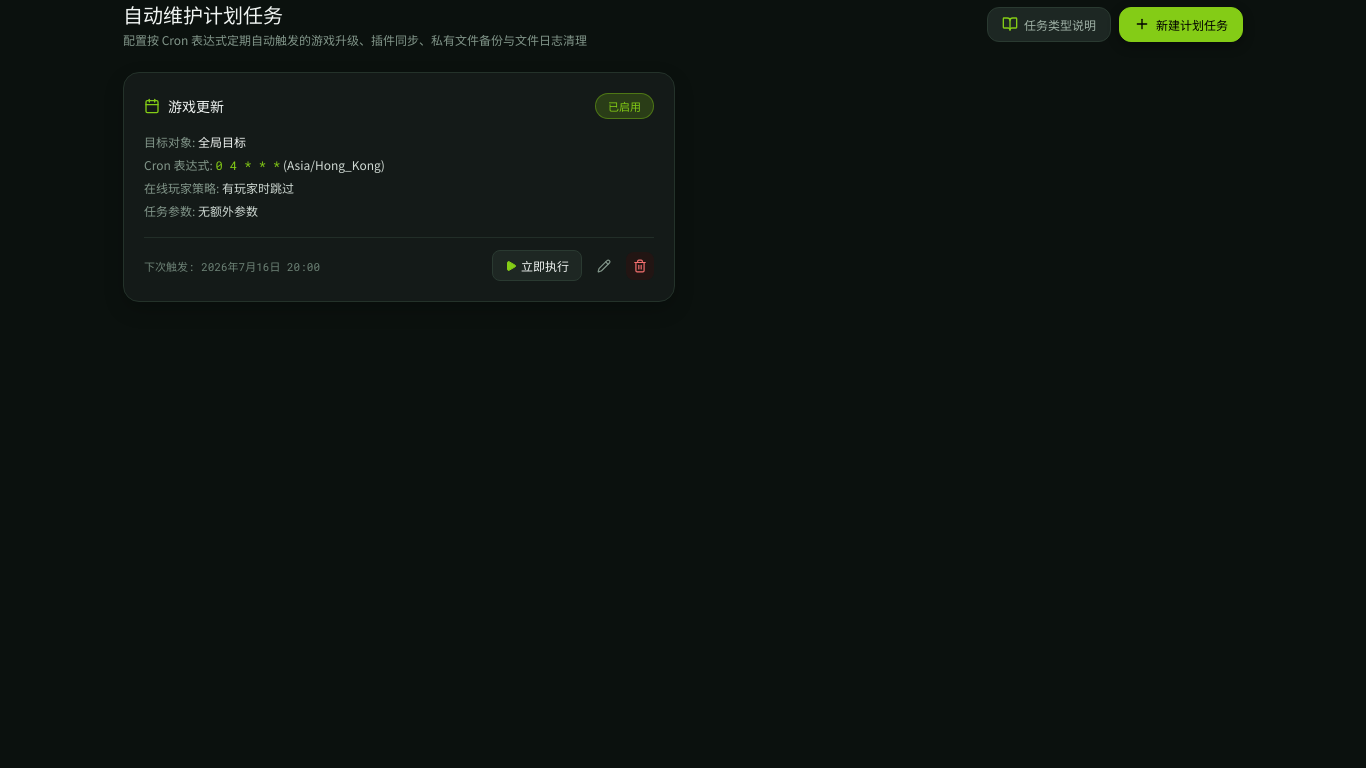
SchedulesPage › edits only Cron, player policy, and enabled state while preserving identity
Click the button named "编辑 游戏更新" at (604, 266), box [590,252,618,280]
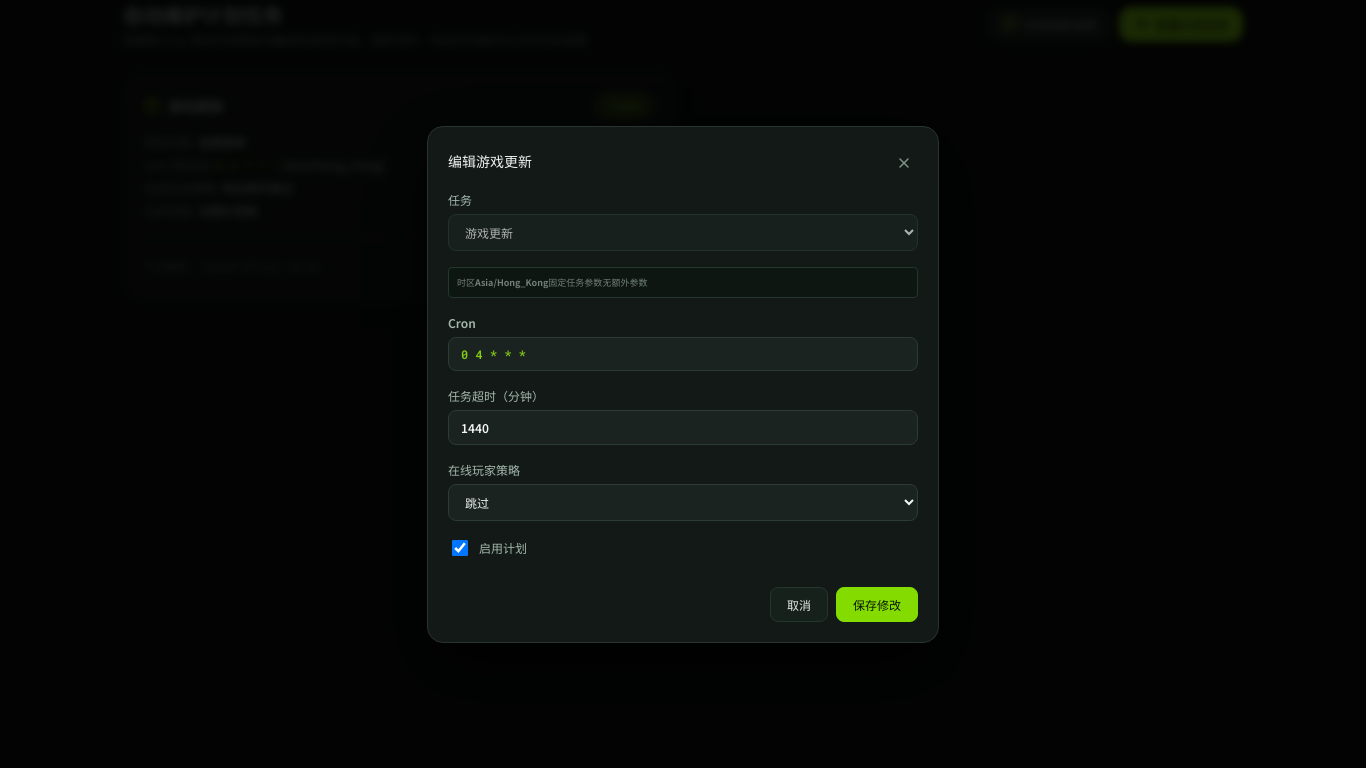
Expected: the dropdown labelled "任务" is disabled, [448,214,918,250]
Expected: the text named "任务时区" reads "Asia/Hong_Kong", [475,276,548,288]
Replace the text in the field labelled "Cron" with "30 5 * * *" at (683, 354), box [448,336,918,370]
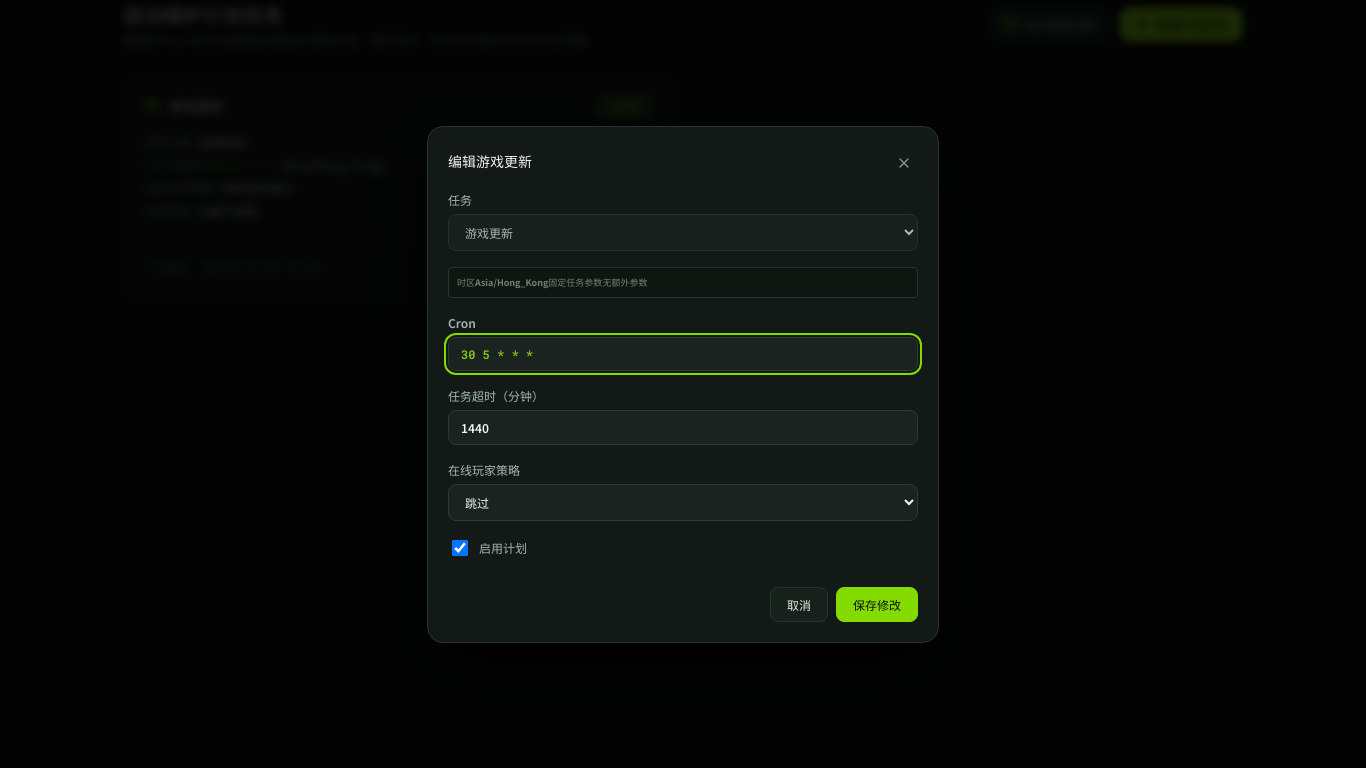
Replace the text in the number field labelled "任务超时（分钟）" with "90" at (683, 427), box [448,410,918,444]
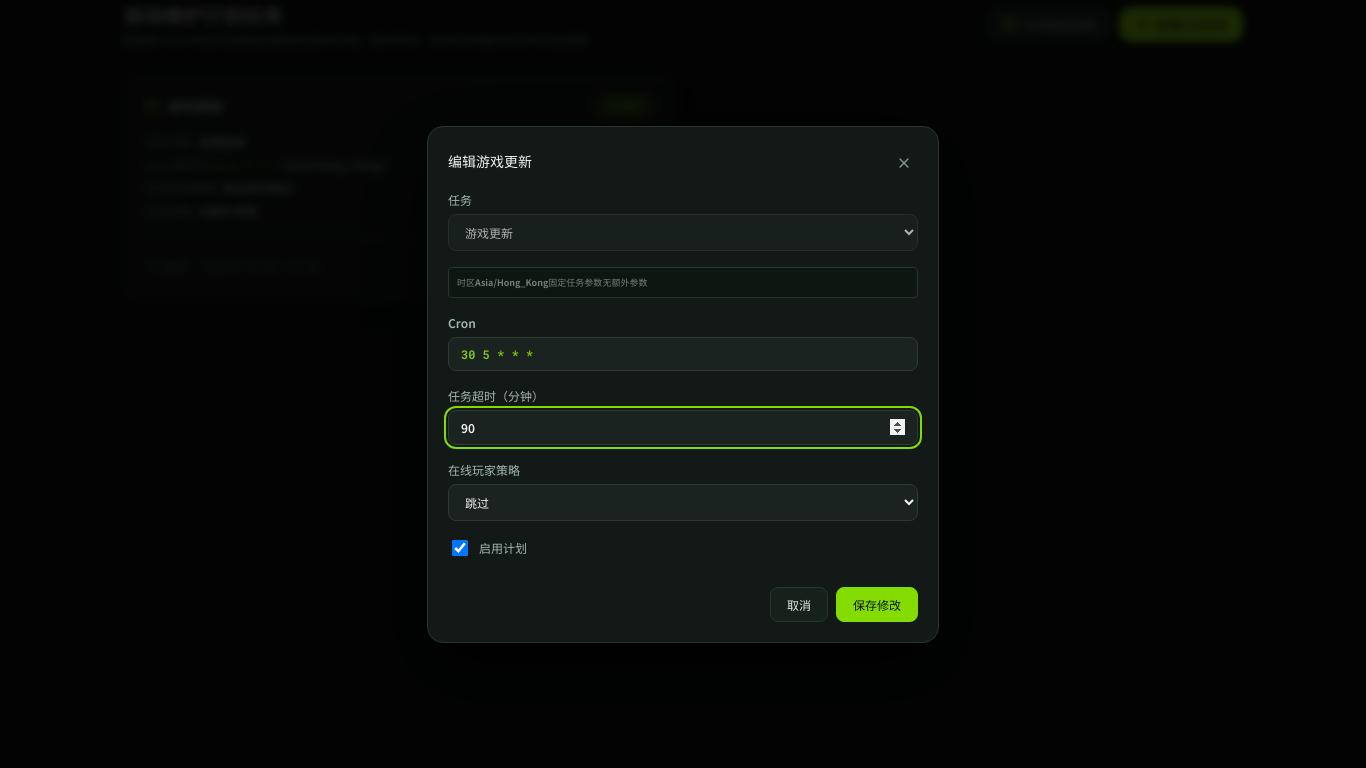
Select "等待" in the dropdown labelled "在线玩家策略" at (683, 502), box [448,484,918,520]
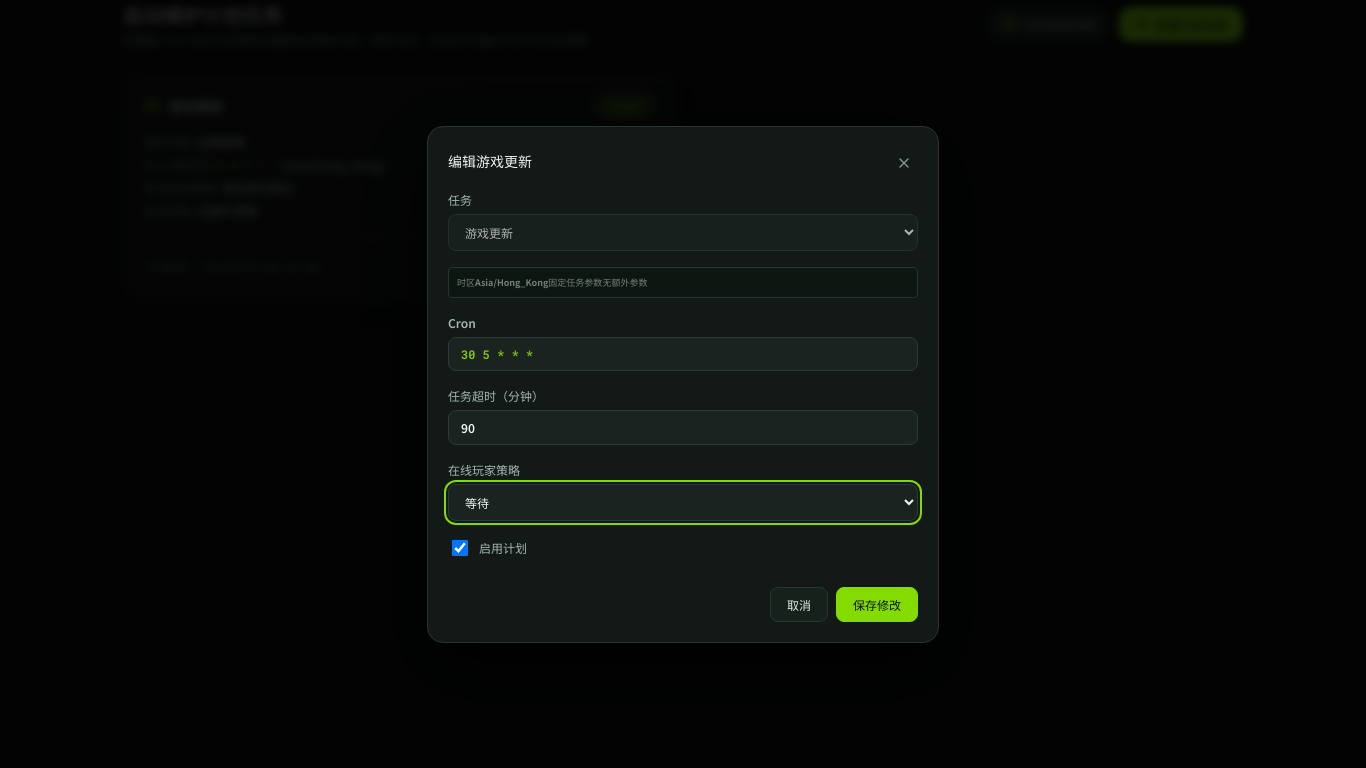
Click the checkbox labelled "启用计划" at (460, 548), box [452,540,468,556]
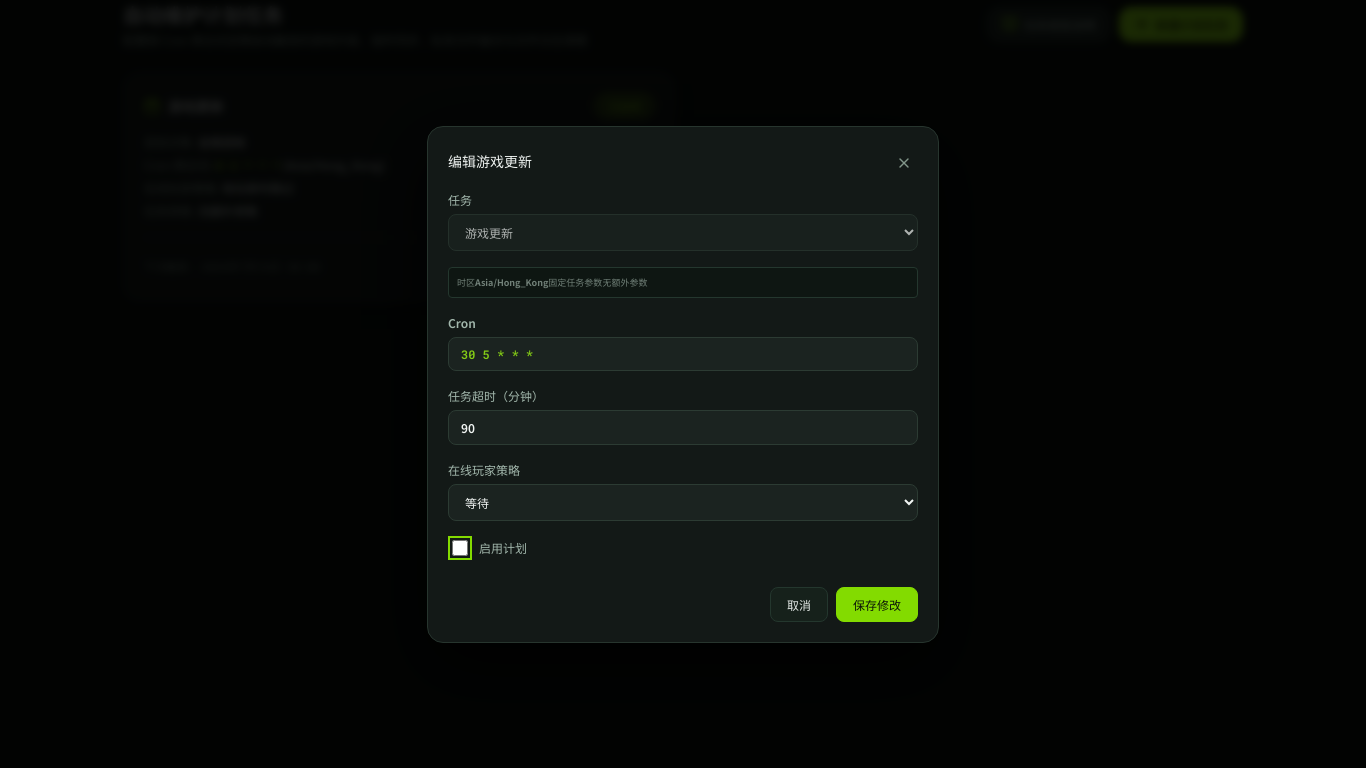
Click the button "保存修改" at (877, 604), box [836,586,918,622]
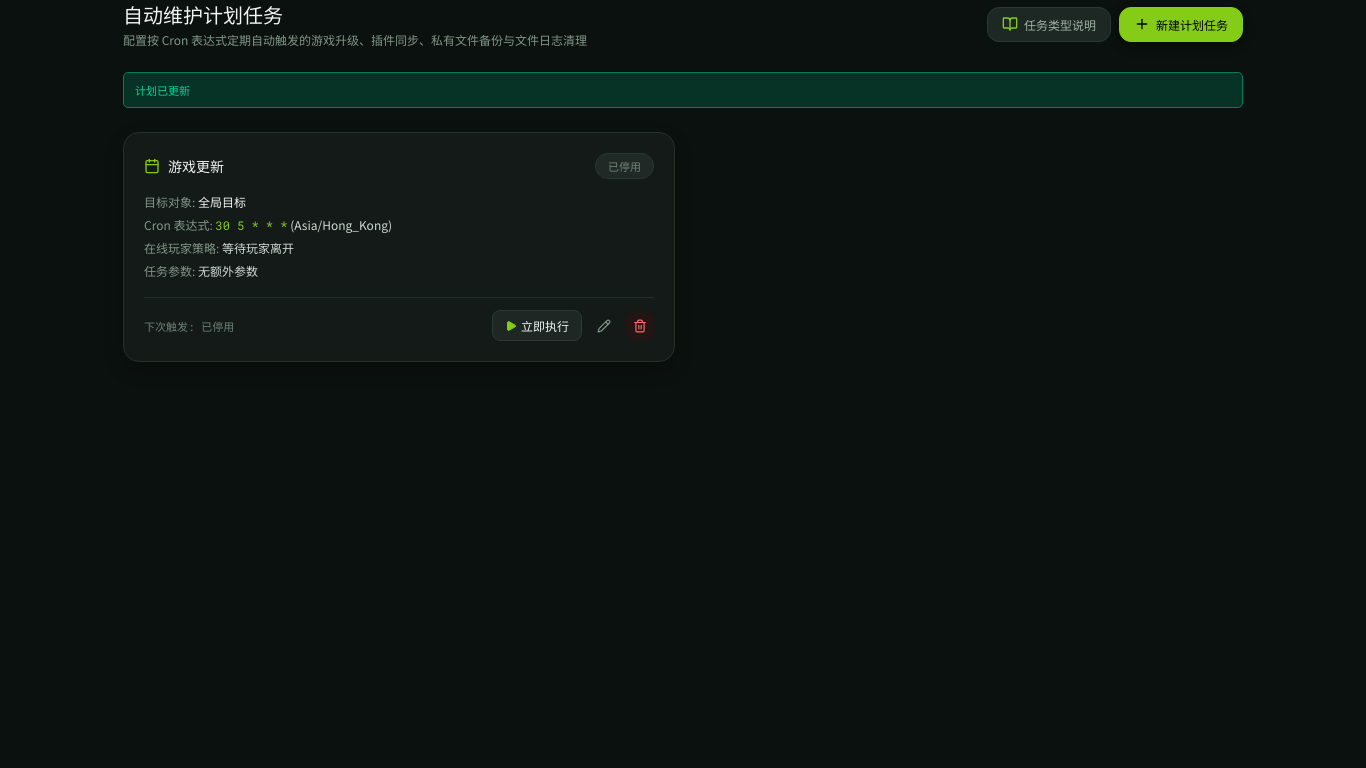
Expected: the message reads "计划已更新", [135,82,190,98]
